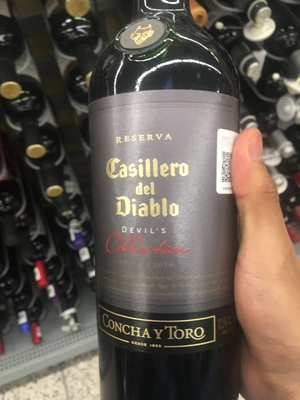casillero del diablo devils collection rojo: (85, 6, 239, 400)
